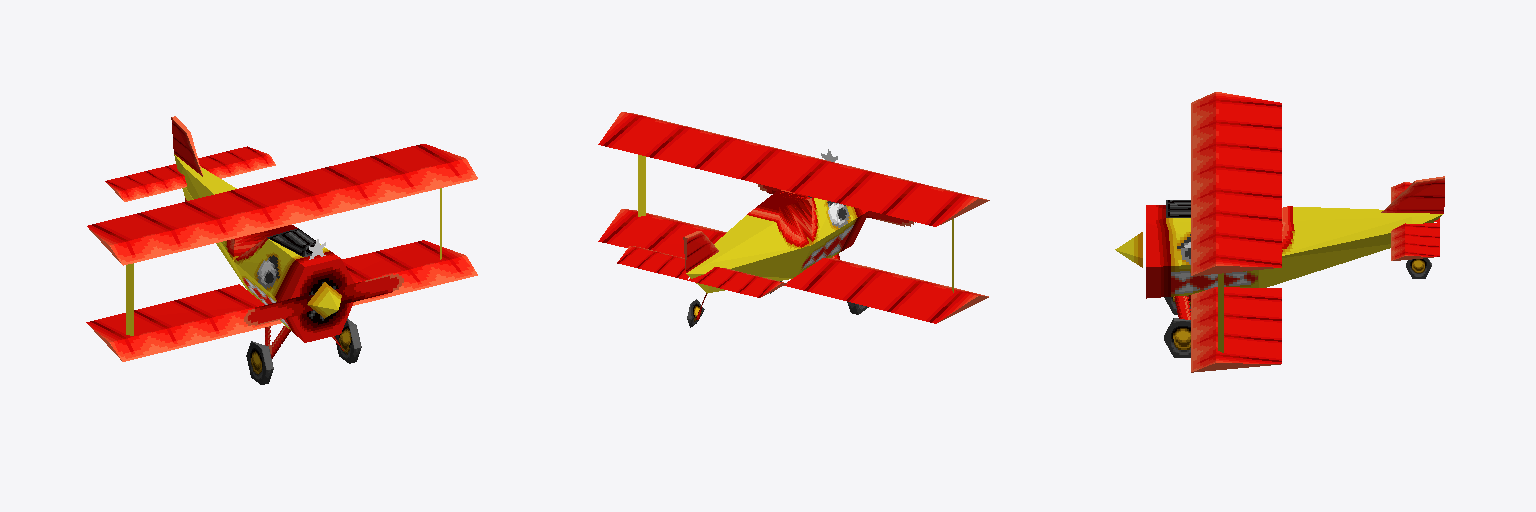
3 views of the same model, side by side, from view 1: azimuth 30°, elevation 25°; view 2: azimuth 150°, elevation 25°; view 3: azimuth 270°, elevation 25° (orthographic).
Visible parts, largest first — view 1: geometry_04; view 2: geometry_04; view 3: geometry_04.
Part boxes in pixels (x1,y1,x2,y2): geometry_04: (86, 116, 477, 384); geometry_04: (598, 112, 989, 327); geometry_04: (1115, 92, 1444, 372).
Size of the model in its own units: 91.08 by 38.43 by 72.99.
Materials: 1 (1 with a texture image).